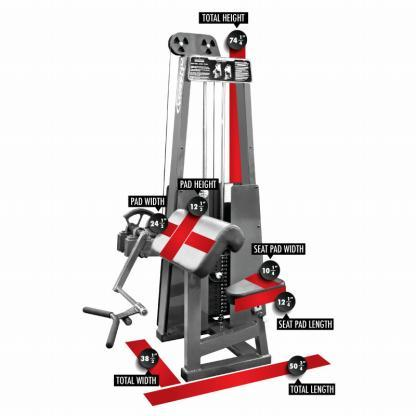arm curl machine: (84, 34, 287, 366)
